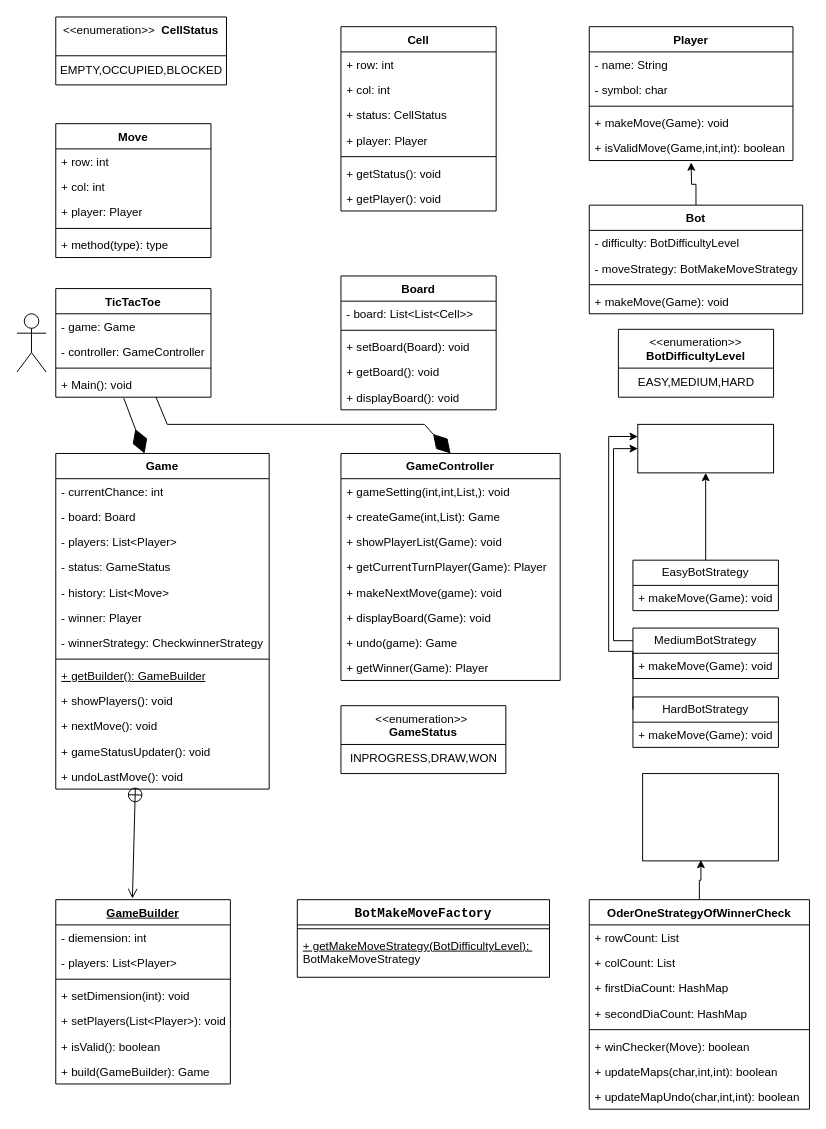
This 826x1129 diagram has some shape labels left out. Here are the shapes that lost their labels. From the top down, the centre of each, then its label:
At (31,342): "Actor".
At (705,448): "«interface» BotMakeMoveStrategy".
At (710,817): "«interface» CheckwinnerStrategy".
